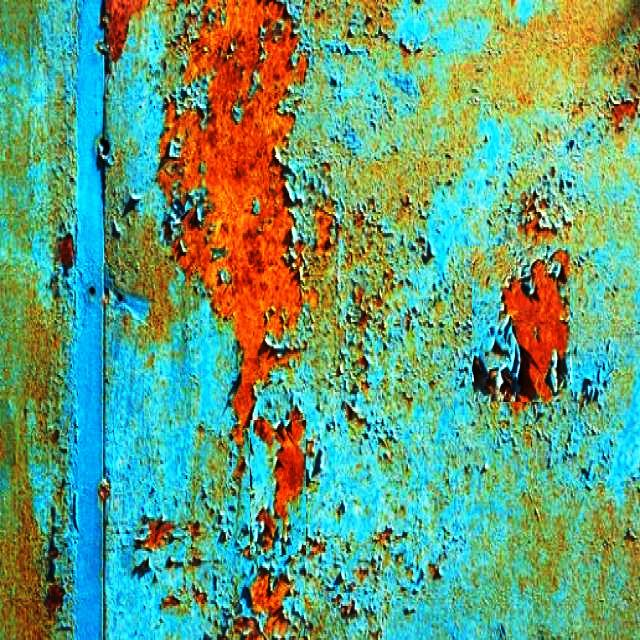Corrosion: (158, 0, 307, 448), (504, 251, 570, 402), (274, 408, 306, 524), (104, 0, 148, 60), (250, 570, 292, 616), (614, 98, 638, 128), (44, 585, 64, 616), (58, 233, 74, 270)
